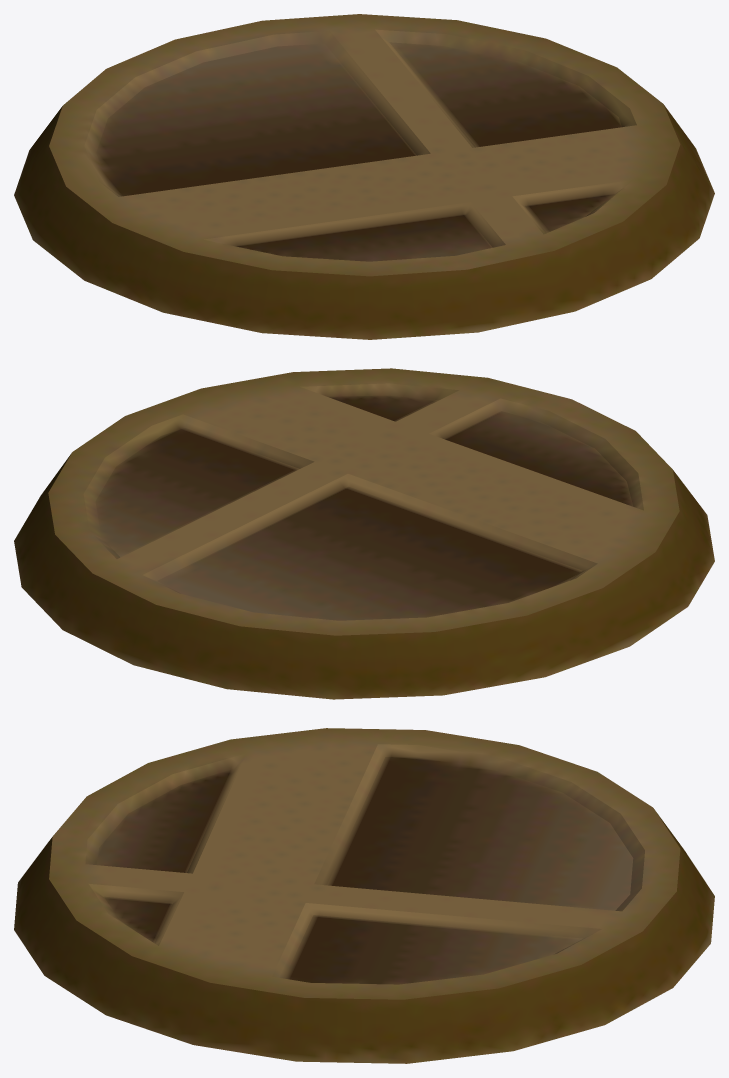
Rendered from plate.obj.
3 renders of one model, top to bottom at view 1: azimuth 30°, elevation 25°; view 2: azimuth 150°, elevation 25°; view 3: azimuth 270°, elevation 25°, orthographic.
Parts seen in each view (by area): view 1: DolSmashplate; view 2: DolSmashplate; view 3: DolSmashplate.
Boxes of the visible parts, x1,y1,x2,y2 form: DolSmashplate: (14, 14, 714, 339); DolSmashplate: (14, 368, 714, 699); DolSmashplate: (14, 728, 714, 1063).
Bounding box in the file's own units: 9.11 × 0.7858 × 9.11.
Materials: 1 (1 with a texture image).
